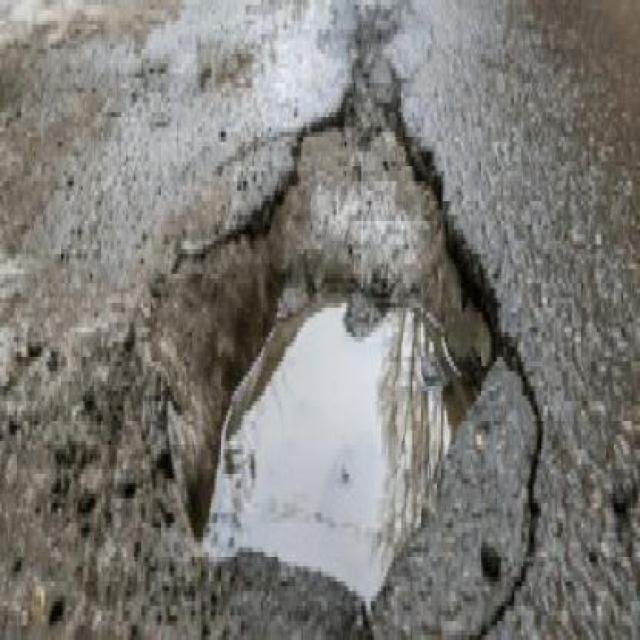Buraco: (69, 46, 551, 640)
